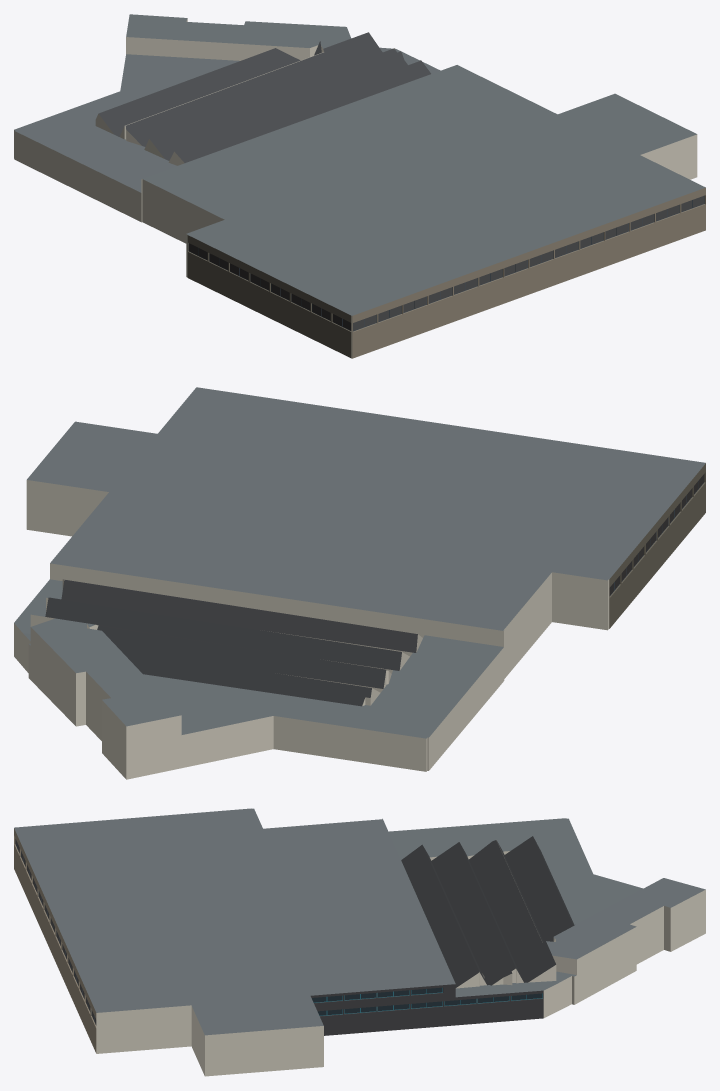
File: recipe-large-schaafstraat-17-091631.glb
3 views of the same model, one above another, from view 1: azimuth 30°, elevation 25°; view 2: azimuth 150°, elevation 25°; view 3: azimuth 270°, elevation 25° (orthographic). The views are drawn at different scales.
Parts seen in each view (by area): view 1: schaafstraat-17-091631; view 2: schaafstraat-17-091631; view 3: schaafstraat-17-091631.
Boxes of the visible parts, left/top/right/bottom form: schaafstraat-17-091631: left=14, top=14, right=705, bottom=358; schaafstraat-17-091631: left=14, top=387, right=705, bottom=779; schaafstraat-17-091631: left=14, top=808, right=705, bottom=1076.
Bounding box in the file's own units: 86.14 × 8.3 × 109.
